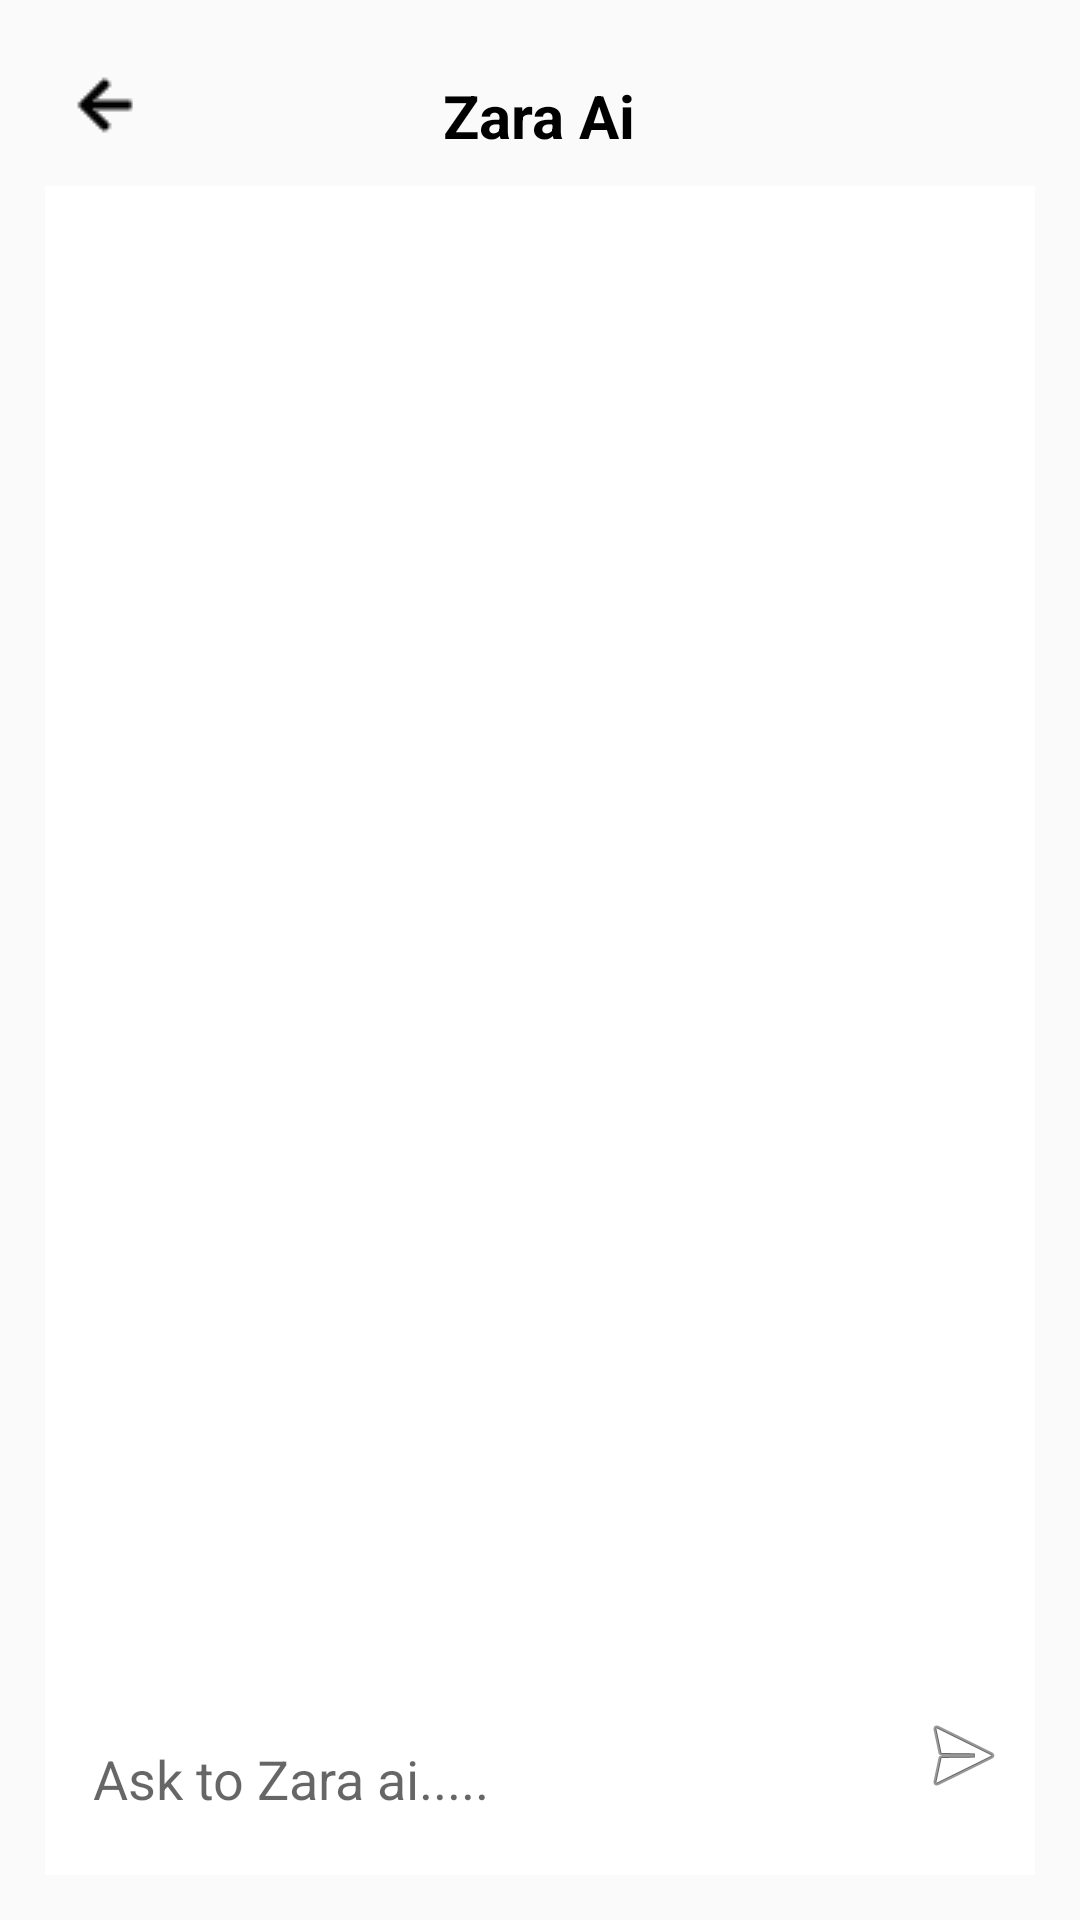

Screen size 1080px x 1920px. Icon name, then its box in pixels as rect(x1, y1, x2, y2):
Back: rect(77, 77, 133, 133)
Send Message: rect(933, 1725, 995, 1786)
